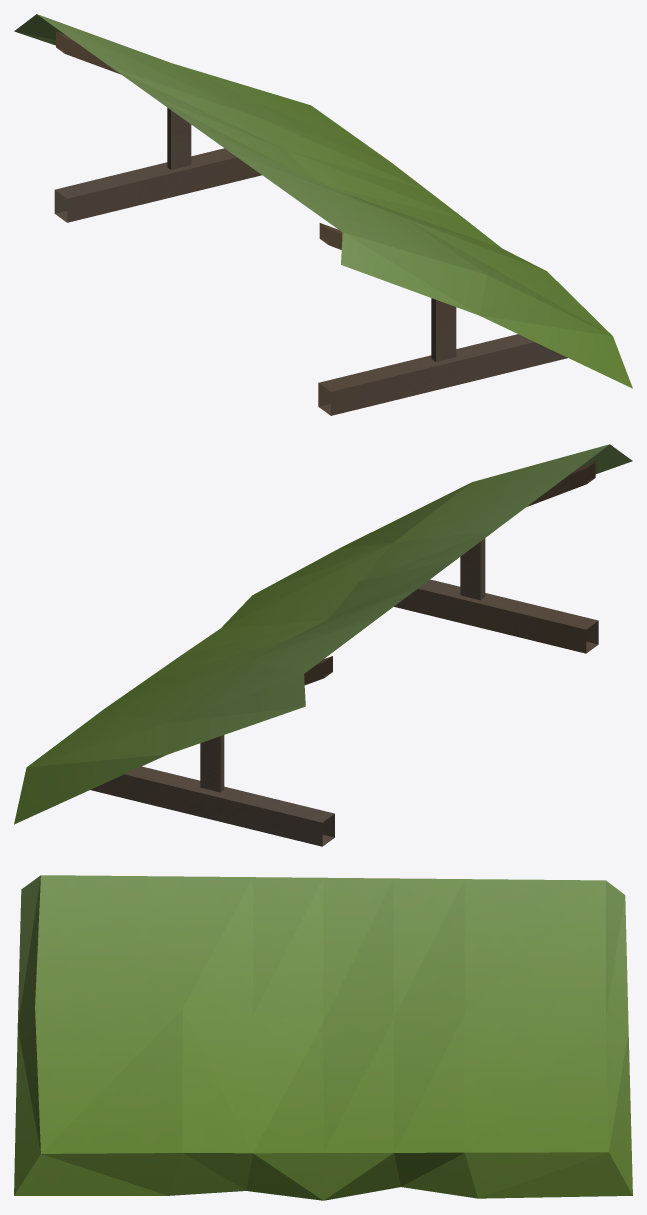
The model's file is Shed_5A.fbx.
3 views of the same model, one above another, from view 1: azimuth 30°, elevation 25°; view 2: azimuth 150°, elevation 25°; view 3: azimuth 270°, elevation 25° (orthographic). The views are drawn at different scales.
Parts seen in each view (by area): view 1: polySurface9860; view 2: polySurface9860; view 3: polySurface9860.
Part boxes in pixels (<box>): polySurface9860: <box>14,14,632,415</box>; polySurface9860: <box>14,444,632,846</box>; polySurface9860: <box>14,875,632,1200</box>.
Bounding box in the file's own units: 219 × 152 × 430.
